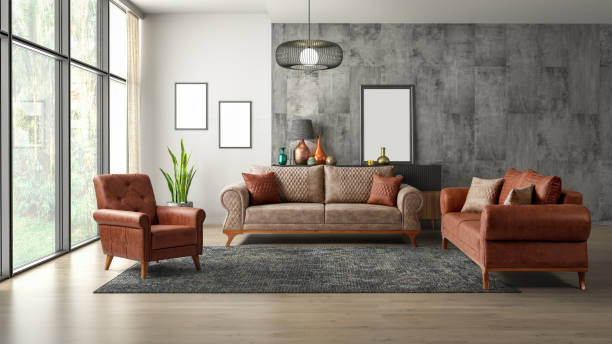chair: (91, 171, 207, 281)
large plant: (158, 139, 200, 207)
sofa: (438, 166, 593, 292), (218, 162, 425, 250)
table lamp: (286, 118, 316, 164)
wall art: (358, 82, 415, 163), (216, 97, 253, 150), (173, 80, 209, 131)
